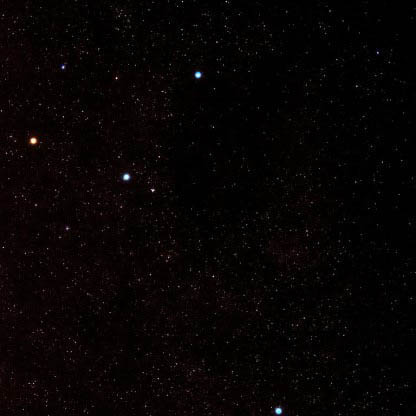Southern Cross: (19, 128, 53, 161), (186, 63, 216, 92), (115, 164, 142, 192), (50, 60, 71, 77)
